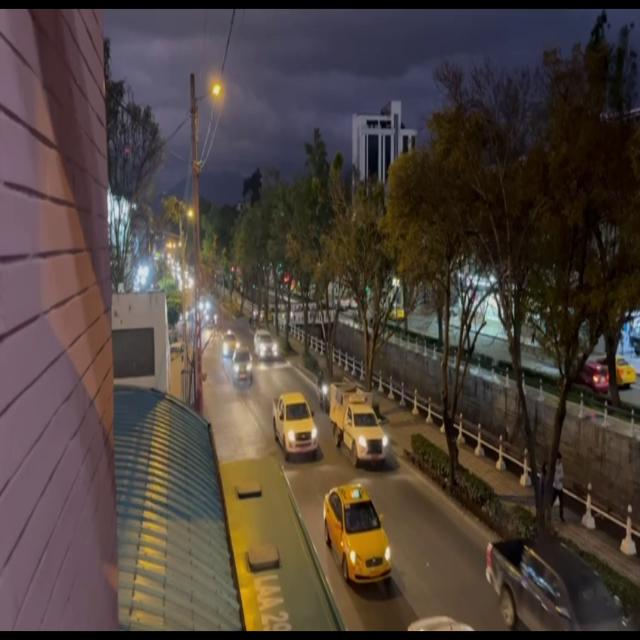CMT: (489, 539, 630, 637), (342, 399, 386, 467), (272, 394, 316, 455)
SED: (328, 489, 393, 582)
